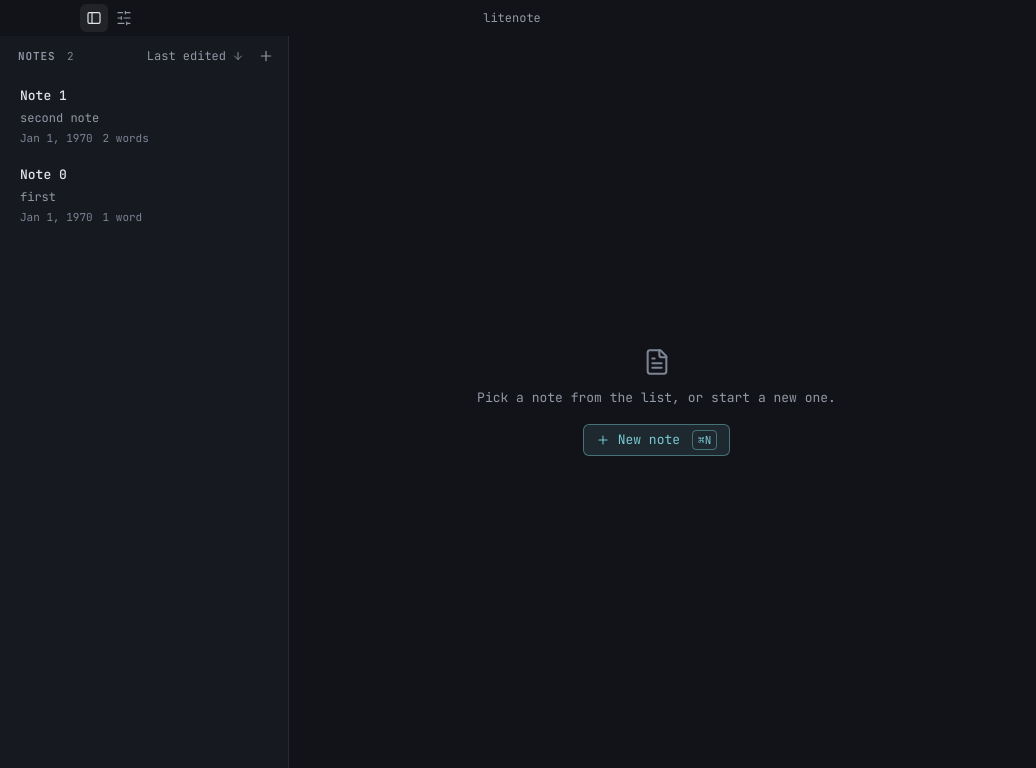
Test: App › creates, opens and saves a new note with timestamps
Click the button named "New Note".
click(266, 56)  # box [252,42,280,70]
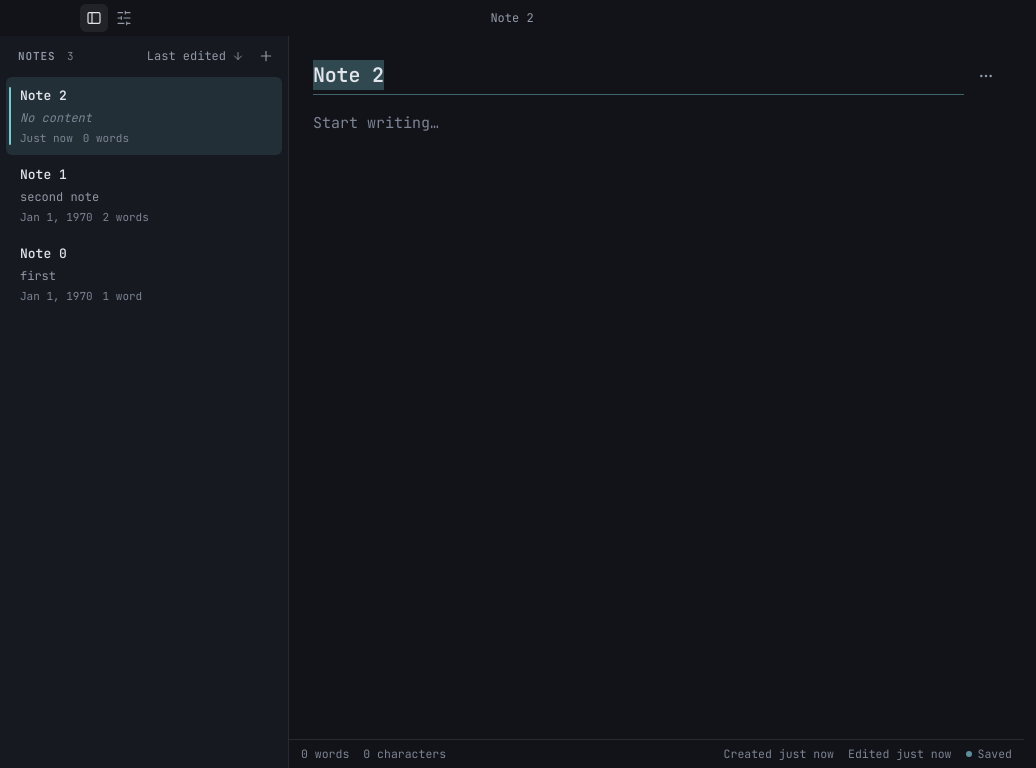
Result: the field named "Note title" holds "Note 2" at [313,56,964,95]
